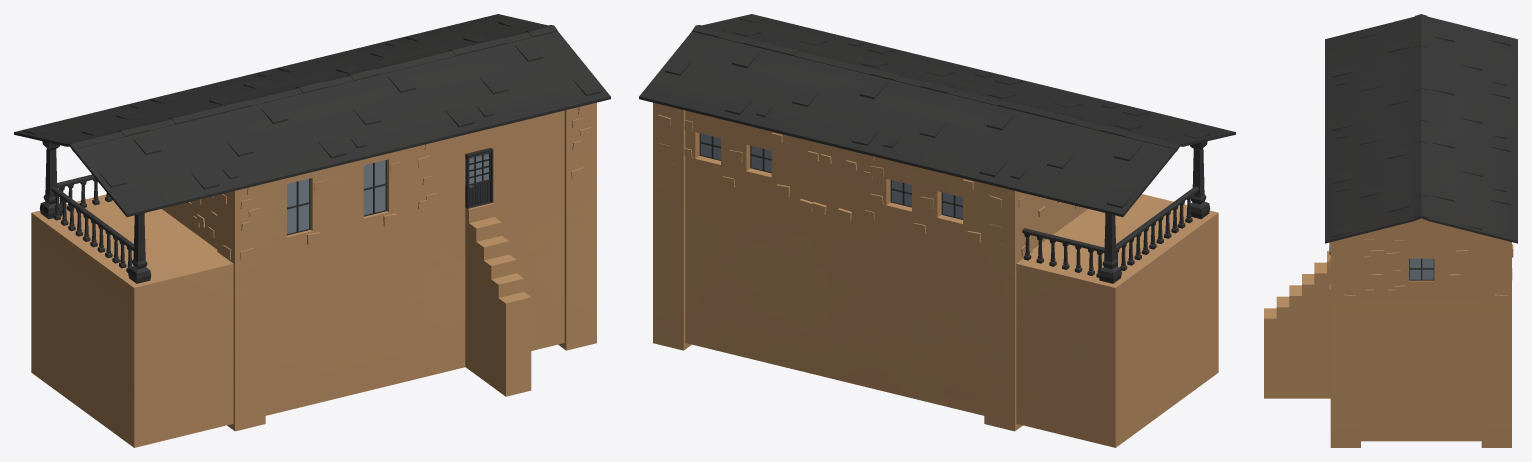
3 renders of one model, left to right at view 1: azimuth 30°, elevation 25°; view 2: azimuth 150°, elevation 25°; view 3: azimuth 270°, elevation 25°, orthographic. The views are drawn at different scales.
Visible parts, largest first — view 1: 3.001; view 2: 3.001; view 3: 3.001.
Boxes of the visible parts, box(x1,y1,x2,y2) form: 3.001: box(14, 14, 610, 447); 3.001: box(639, 14, 1235, 447); 3.001: box(1264, 14, 1517, 447).
Bounding box in the file's own units: 38.03 × 20.75 × 20.17.
Materials: 4 (1 with a texture image).
